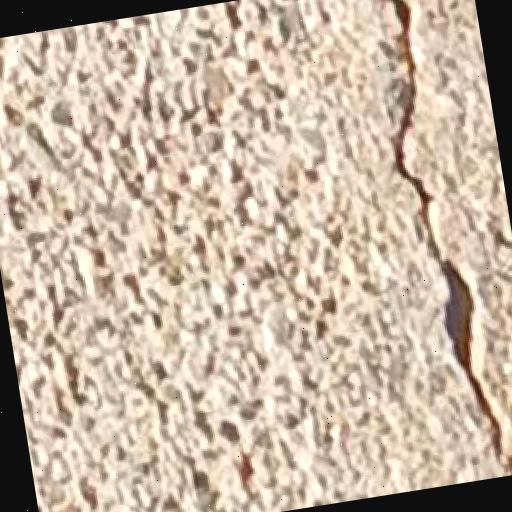spalling: (349, 0, 512, 474)
